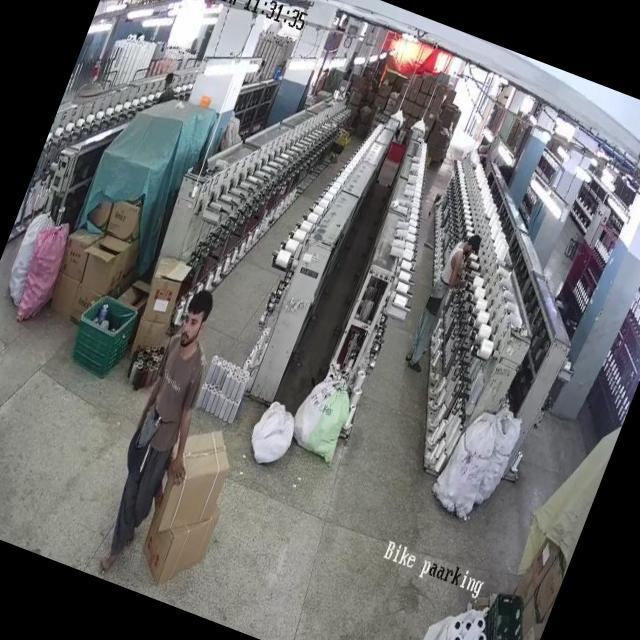person: (93, 292, 240, 564), (401, 220, 487, 380)
